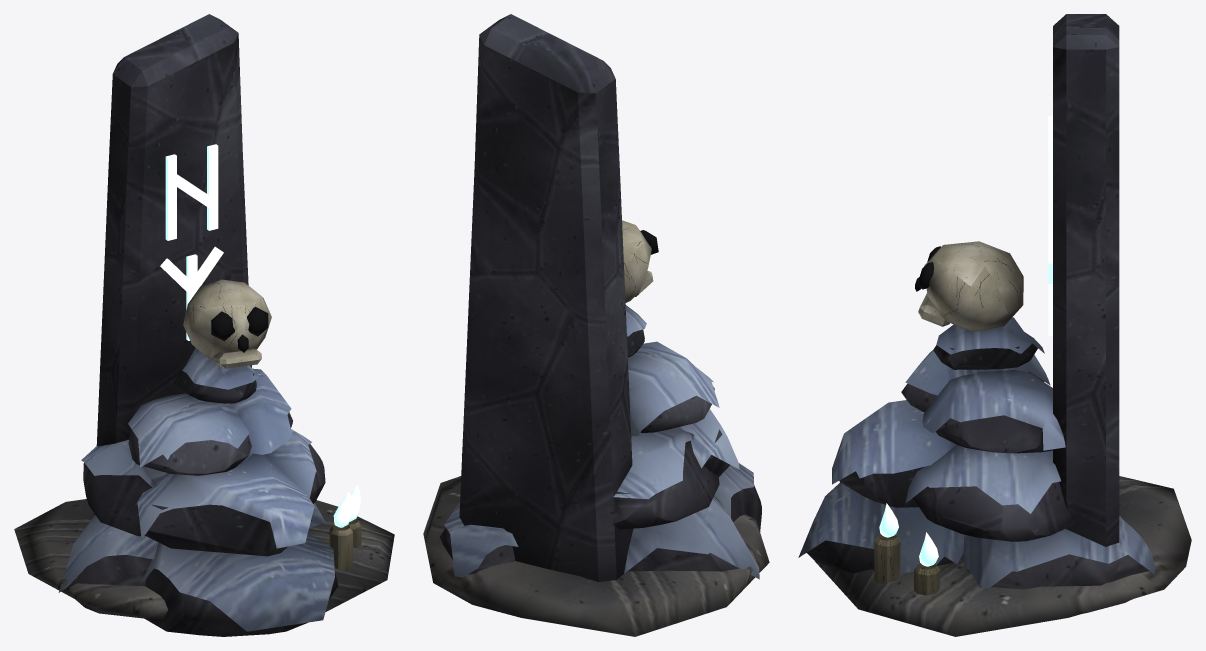
Rendered from helheim_cairn_a.glb.
3 views of the same model, side by side, from view 1: azimuth 30°, elevation 25°; view 2: azimuth 150°, elevation 25°; view 3: azimuth 270°, elevation 25° (orthographic). The views are drawn at different scales.
Parts seen in each view (by area): view 1: helheim_cairn_a; view 2: helheim_cairn_a; view 3: helheim_cairn_a.
Part boxes in pixels (bbox=[...]): helheim_cairn_a: bbox=[14, 14, 394, 636]; helheim_cairn_a: bbox=[423, 14, 769, 636]; helheim_cairn_a: bbox=[798, 14, 1191, 636].
Bounding box in the file's own units: 1.19 × 1.85 × 1.19.
Materials: 6 (4 with a texture image).
